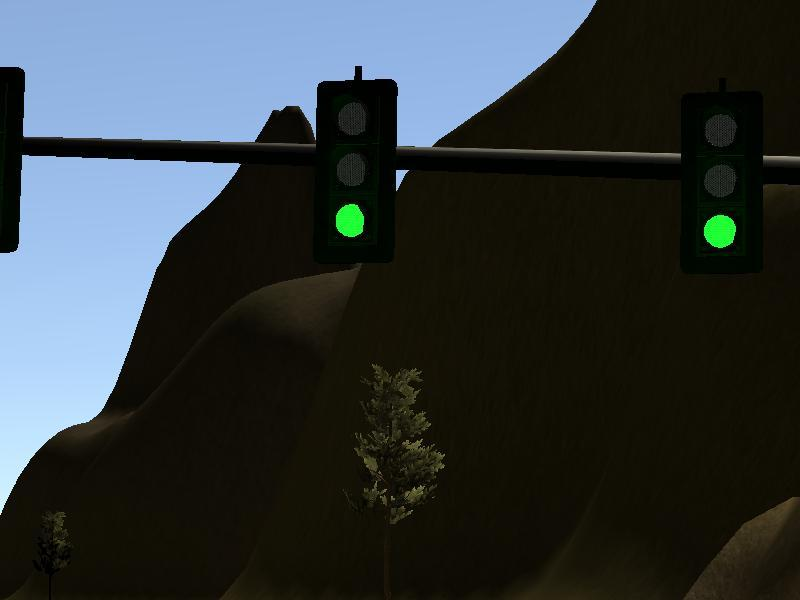Green: (316, 84, 393, 256), (688, 85, 760, 265)
